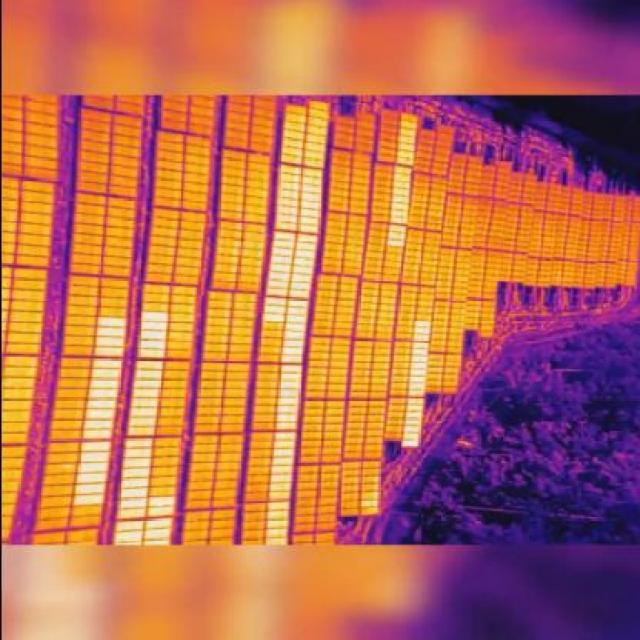diode: (70, 494, 104, 504), (74, 472, 106, 482), (116, 530, 142, 542), (119, 491, 147, 502), (73, 481, 107, 490), (120, 520, 145, 532), (148, 522, 174, 533), (119, 502, 147, 512), (87, 378, 115, 388), (93, 344, 121, 354), (95, 324, 123, 334), (80, 430, 111, 439), (81, 411, 112, 420), (86, 389, 117, 398), (262, 294, 284, 306), (98, 316, 124, 326), (149, 497, 177, 506), (146, 513, 174, 522), (120, 461, 148, 470), (85, 399, 113, 408), (136, 347, 164, 356), (121, 480, 148, 489), (129, 416, 153, 426), (134, 376, 158, 386), (141, 318, 165, 328), (269, 528, 293, 538), (133, 367, 159, 376), (129, 407, 154, 416), (132, 388, 157, 397), (92, 358, 117, 367), (145, 532, 173, 540), (125, 427, 153, 435), (93, 336, 121, 344), (278, 372, 300, 382), (122, 471, 146, 480), (125, 441, 149, 450), (82, 420, 109, 428), (297, 143, 321, 152), (136, 357, 159, 366), (88, 372, 117, 379), (273, 474, 295, 483), (286, 274, 308, 283), (288, 257, 310, 266), (293, 218, 315, 227), (76, 462, 104, 469), (132, 398, 153, 407), (82, 442, 109, 449), (281, 351, 302, 360), (261, 312, 282, 321), (141, 329, 164, 337), (118, 515, 144, 522), (140, 311, 166, 318), (278, 152, 296, 162), (272, 503, 294, 511), (278, 382, 300, 390), (273, 232, 295, 240), (279, 146, 301, 154), (80, 452, 105, 459), (278, 398, 297, 407), (302, 108, 321, 117), (276, 211, 295, 220), (282, 128, 301, 137), (124, 451, 148, 458), (138, 338, 162, 345), (265, 282, 286, 290), (292, 227, 313, 235), (358, 489, 376, 498), (301, 160, 319, 169), (302, 123, 320, 132), (398, 123, 416, 132), (289, 268, 311, 275), (270, 221, 292, 228), (278, 138, 300, 145), (267, 263, 284, 272), (294, 234, 311, 243), (304, 100, 321, 109), (283, 122, 302, 130), (281, 357, 299, 365), (276, 204, 292, 213), (297, 176, 315, 184), (280, 166, 298, 174), (282, 112, 300, 120), (302, 116, 320, 124), (279, 406, 296, 414), (276, 458, 295, 465), (282, 326, 304, 332), (263, 302, 285, 308), (296, 194, 318, 200), (295, 186, 317, 192), (273, 249, 289, 257), (292, 250, 308, 258), (396, 140, 412, 148), (268, 538, 289, 544), (271, 522, 292, 528), (271, 494, 292, 500), (271, 486, 292, 492), (277, 417, 298, 423), (281, 389, 299, 396), (281, 342, 299, 349), (297, 209, 315, 216), (274, 191, 295, 197), (401, 430, 416, 438), (295, 243, 310, 251), (272, 513, 291, 519), (276, 443, 295, 449), (272, 242, 291, 248), (298, 153, 317, 159), (299, 133, 318, 139), (388, 182, 407, 188), (410, 327, 424, 335), (395, 148, 411, 155), (399, 131, 415, 138), (358, 500, 376, 506), (275, 468, 293, 474), (278, 434, 296, 440), (278, 426, 296, 432), (280, 366, 298, 372), (282, 333, 300, 339), (288, 301, 306, 307), (288, 293, 306, 299), (267, 274, 285, 280), (298, 201, 316, 207), (275, 174, 293, 180), (384, 238, 402, 244), (390, 174, 408, 180), (400, 441, 418, 447), (391, 192, 406, 199), (408, 379, 423, 386), (406, 396, 423, 402), (290, 286, 307, 292), (387, 206, 404, 212), (118, 542, 142, 546), (408, 353, 424, 359), (285, 310, 301, 316), (269, 258, 285, 264), (385, 232, 401, 238), (388, 224, 404, 230), (389, 200, 405, 206), (391, 166, 407, 172), (393, 158, 409, 164), (388, 214, 404, 220), (407, 387, 422, 393), (277, 198, 292, 204), (275, 183, 290, 189), (300, 170, 315, 176), (404, 414, 418, 420), (412, 346, 426, 352), (402, 427, 416, 433), (285, 319, 301, 324), (275, 451, 294, 455), (402, 404, 420, 408), (410, 367, 422, 373), (413, 320, 425, 326), (407, 391, 424, 395), (411, 360, 424, 365), (401, 421, 417, 425), (411, 334, 427, 338), (409, 375, 423, 379), (406, 409, 420, 413), (149, 508, 176, 510), (147, 542, 176, 543), (414, 342, 428, 344)
hotspot: (370, 504, 375, 510)
